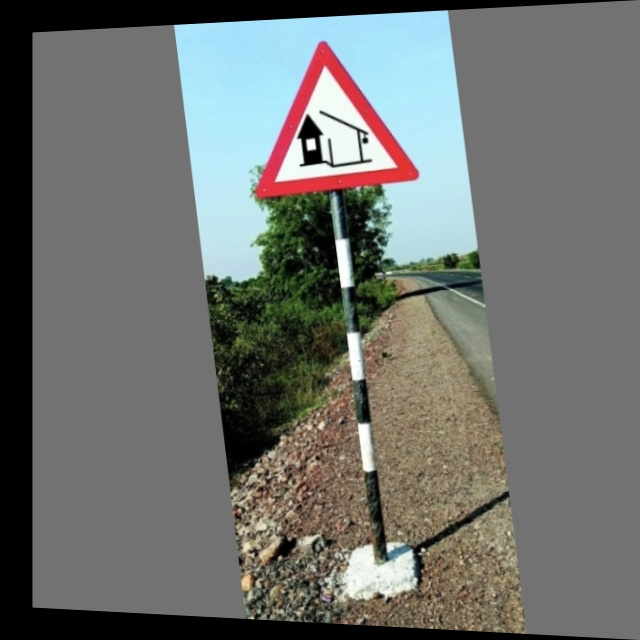Barrier_Ahead: (243, 30, 417, 199)
